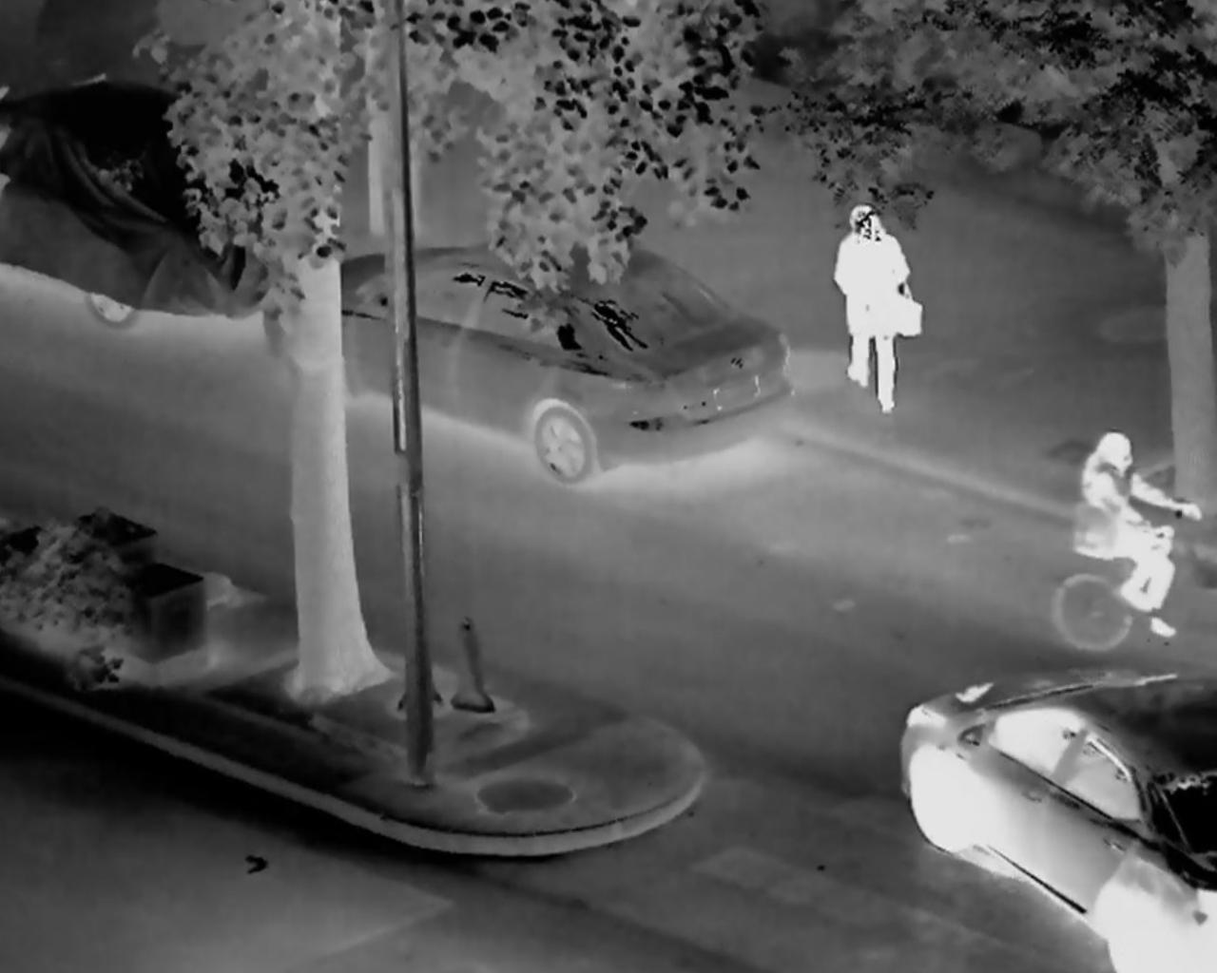person: (1061, 407, 1197, 642), (810, 203, 920, 418)
